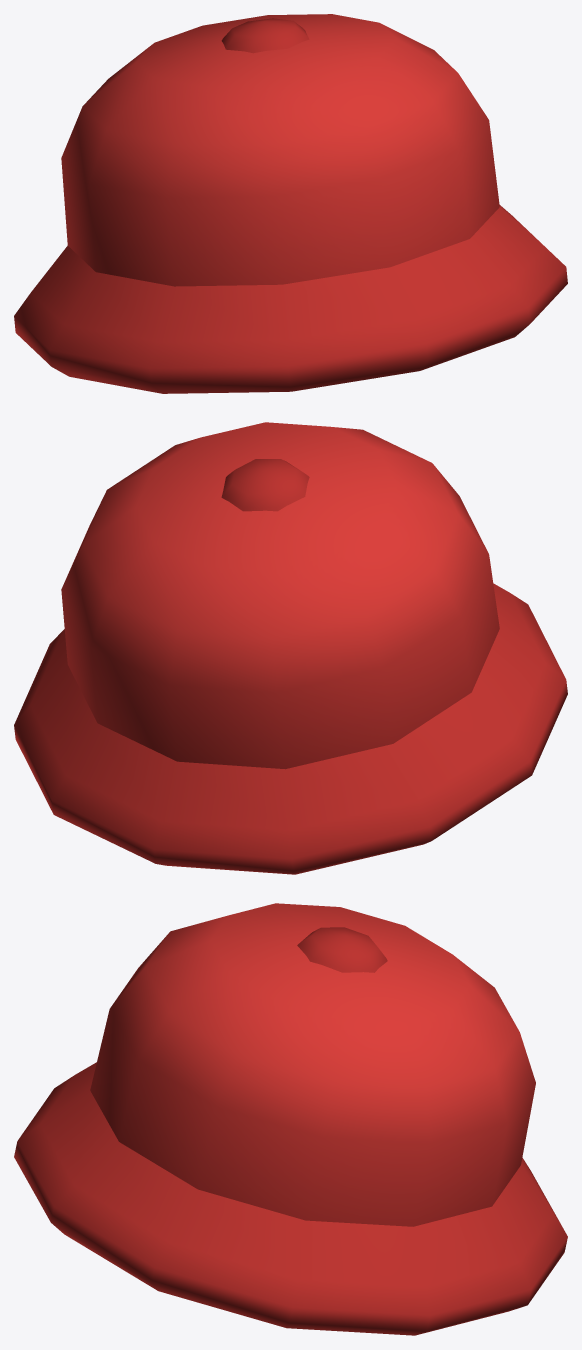
File: Headgear_11.fbx
3 views of the same model, one above another, from view 1: azimuth 30°, elevation 25°; view 2: azimuth 150°, elevation 25°; view 3: azimuth 270°, elevation 25° (orthographic).
Parts seen in each view (by area): view 1: Headgear_11; view 2: Headgear_11; view 3: Headgear_11.
Boxes of the visible parts, bbox=[...] form: Headgear_11: bbox=[14, 14, 567, 393]; Headgear_11: bbox=[14, 422, 567, 874]; Headgear_11: bbox=[14, 903, 567, 1335].
Bounding box in the file's own units: 78.68 × 50.56 × 77.75.
